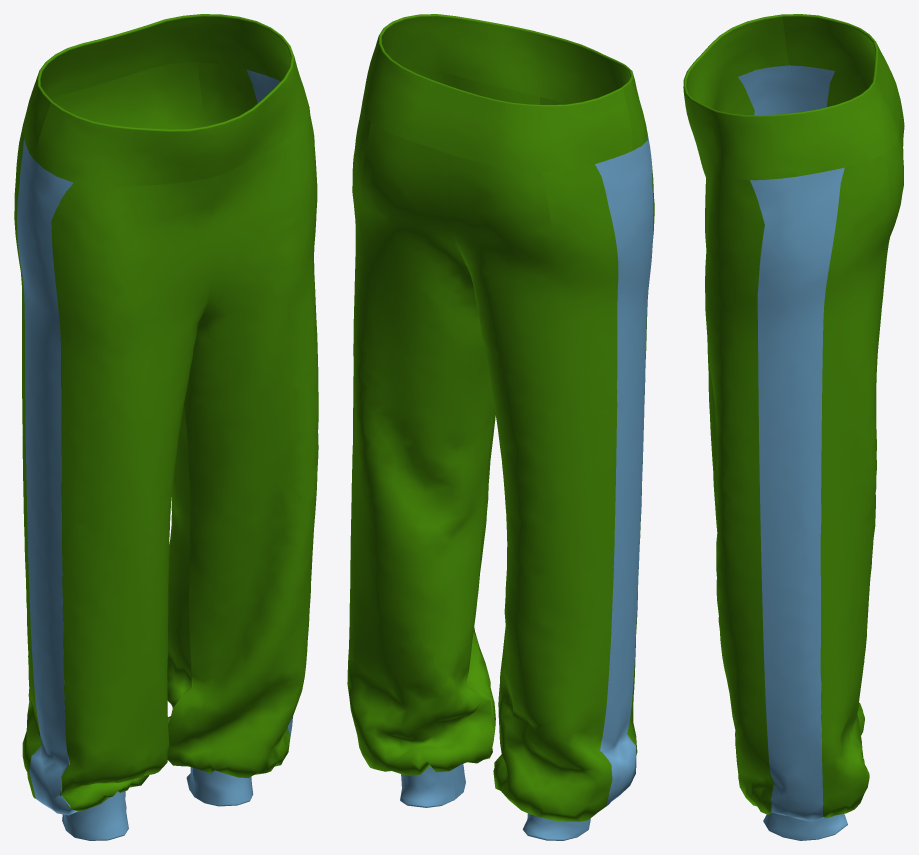
3 views of the same model, side by side, from view 1: azimuth 30°, elevation 25°; view 2: azimuth 150°, elevation 25°; view 3: azimuth 270°, elevation 25° (orthographic). The views are drawn at different scales.
Visible parts, largest first — view 1: Pattern2D_4476826, Pattern2D_4640240, Pattern2D_4220494, Pattern2D_4640238, Pattern2D_4640241, Pattern2D_4555758, Pattern2D_4002359, Pattern2D_4640239, Pattern2D_4640242; view 2: Pattern2D_4555758, Pattern2D_4640241, Pattern2D_4220494, Pattern2D_4640238, Pattern2D_4640240, Pattern2D_4640239, Pattern2D_4002359, Pattern2D_4476826; view 3: Pattern2D_4640242, Pattern2D_4640241, Pattern2D_4640240, Pattern2D_4220494, Pattern2D_4640238, Pattern2D_4476826, Pattern2D_4640239, Pattern2D_4555758.
Boxes of the visible parts, x1,y1,x2,y2 form: Pattern2D_4476826: [51, 175, 220, 811]; Pattern2D_4640240: [168, 108, 318, 777]; Pattern2D_4220494: [23, 14, 309, 186]; Pattern2D_4640238: [17, 139, 79, 815]; Pattern2D_4640241: [105, 62, 257, 729]; Pattern2D_4555758: [14, 82, 107, 798]; Pattern2D_4002359: [62, 791, 128, 840]; Pattern2D_4640239: [186, 767, 253, 806]; Pattern2D_4640242: [247, 70, 292, 739]; Pattern2D_4555758: [447, 154, 618, 821]; Pattern2D_4640241: [347, 101, 495, 775]; Pattern2D_4220494: [362, 14, 647, 172]; Pattern2D_4640238: [595, 134, 653, 806]; Pattern2D_4640240: [409, 69, 539, 759]; Pattern2D_4640239: [400, 764, 465, 807]; Pattern2D_4002359: [522, 813, 590, 840]; Pattern2D_4476826: [540, 96, 654, 755]; Pattern2D_4640242: [750, 167, 844, 821]; Pattern2D_4640241: [820, 118, 903, 818]; Pattern2D_4640240: [696, 145, 774, 814]; Pattern2D_4220494: [683, 14, 900, 180]; Pattern2D_4640238: [738, 65, 834, 115]; Pattern2D_4476826: [705, 77, 754, 531]; Pattern2D_4640239: [763, 812, 847, 840]; Pattern2D_4555758: [827, 71, 904, 735].
Bounding box in the file's own units: 39.22 × 103 × 27.83.
